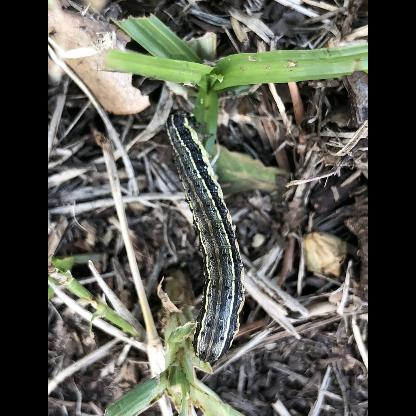Fall Armyworm Larvae: (150, 104, 254, 370)
